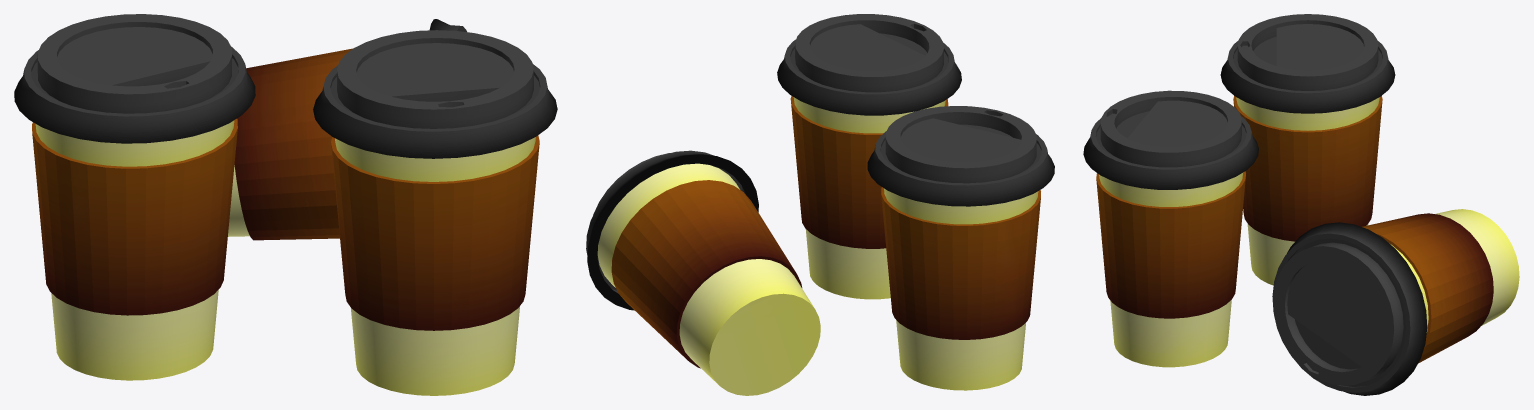
File: DynamicElements.glb
3 renders of one model, left to right at view 1: azimuth 30°, elevation 25°; view 2: azimuth 150°, elevation 25°; view 3: azimuth 270°, elevation 25°, orthographic. The views are drawn at different scales.
Visible parts, largest first — view 1: coffee_2, Coffee_1, coffee_3; view 2: Coffee_1, coffee_3, coffee_2; view 3: coffee_2, coffee_3, Coffee_1.
Part boxes in pixels (x1,y1,x2,y2): coffee_2: (313, 30, 557, 395); Coffee_1: (14, 14, 255, 380); coffee_3: (228, 19, 466, 240); Coffee_1: (867, 106, 1054, 390); coffee_3: (586, 150, 820, 395); coffee_2: (777, 14, 961, 299); coffee_2: (1083, 90, 1258, 367); coffee_3: (1272, 209, 1519, 395); Coffee_1: (1220, 14, 1395, 285).
Size of the model in its own units: 5.9 by 3.14 by 5.63.
Materials: 1 (1 with a texture image).
